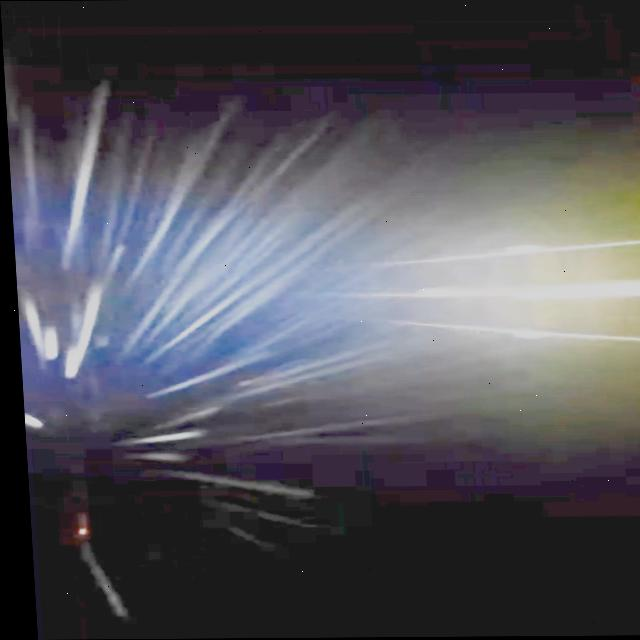poles: (420, 251, 640, 328)
wires: (374, 239, 640, 265), (385, 320, 640, 342)
